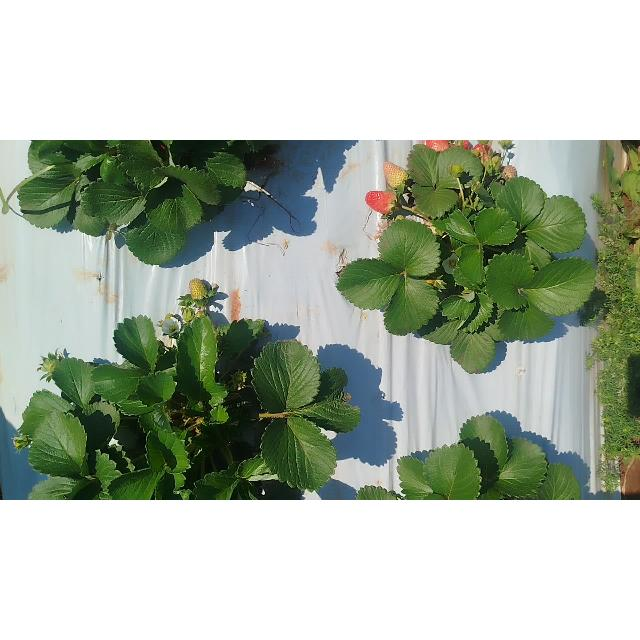maduro: (365, 190, 397, 214), (426, 140, 450, 152)
no-maduro: (383, 160, 409, 190), (188, 278, 208, 300), (503, 164, 517, 178)
